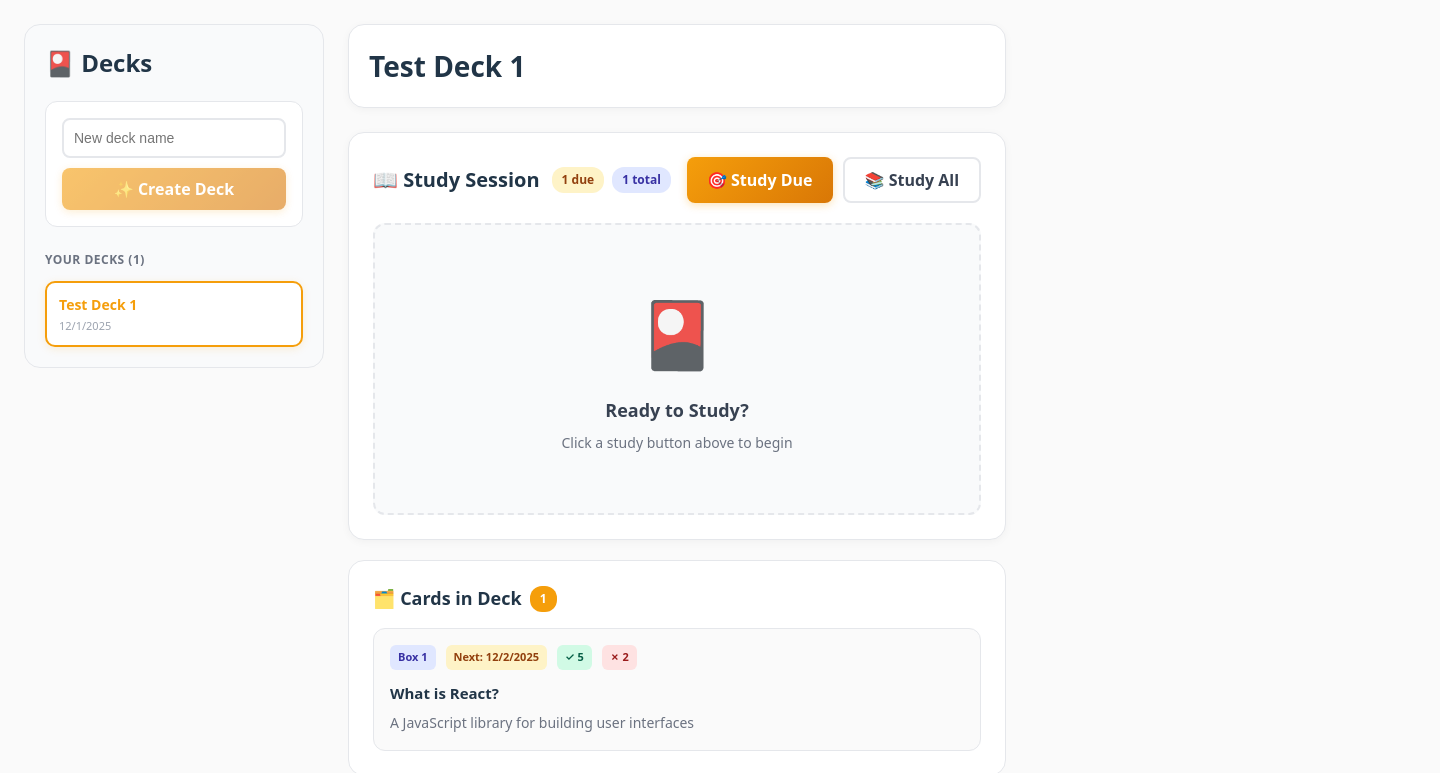
Test case: Decks Page › shows answer buttons
Click the button with test id "study-due-button" at (760, 180), box [687, 157, 832, 203]
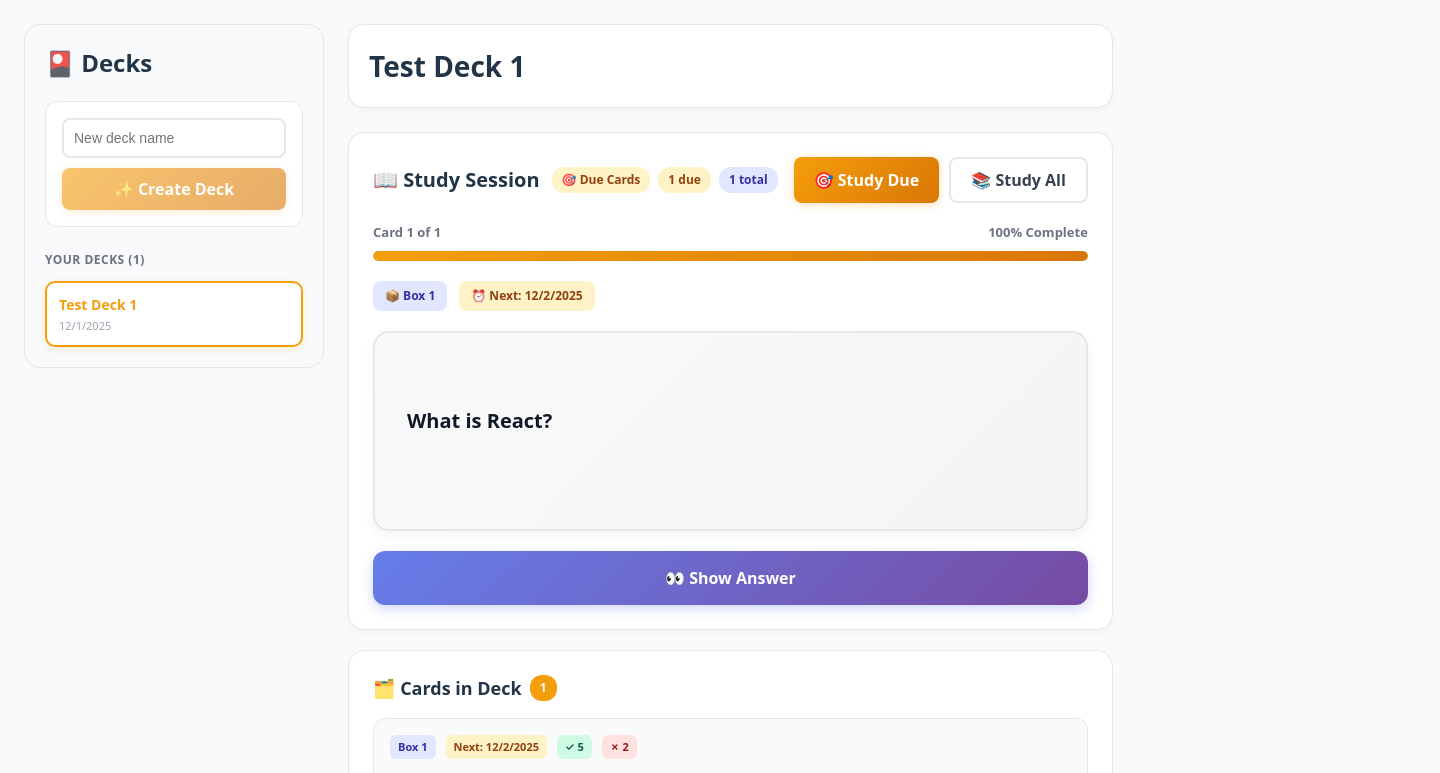
Now the button with test id "show-answer-button" is shown
Click the button with test id "show-answer-button" at (730, 578), box [373, 550, 1088, 604]
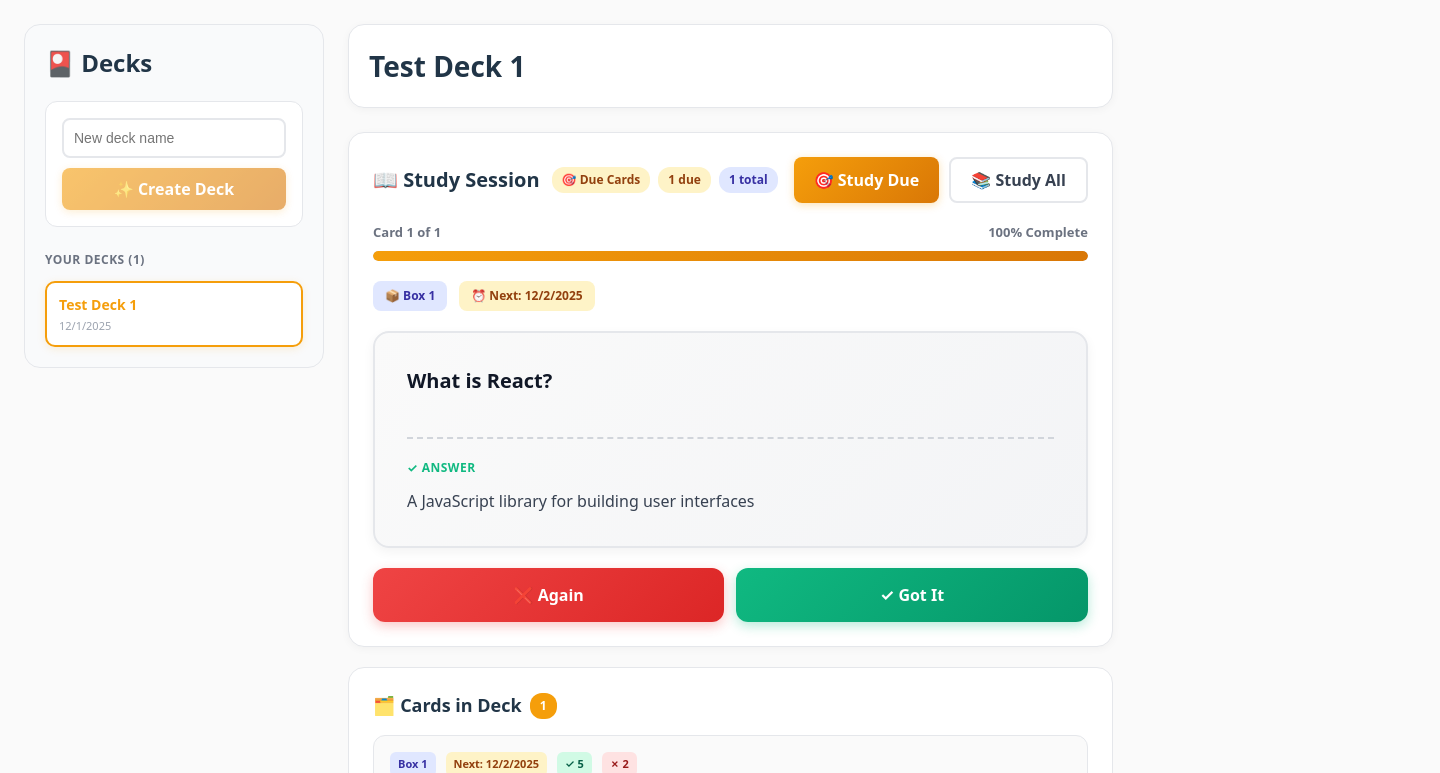
Now the button with test id "got-it-button" is shown, box [736, 568, 1088, 622]
Now the button with test id "again-button" is shown, box [373, 568, 724, 622]
